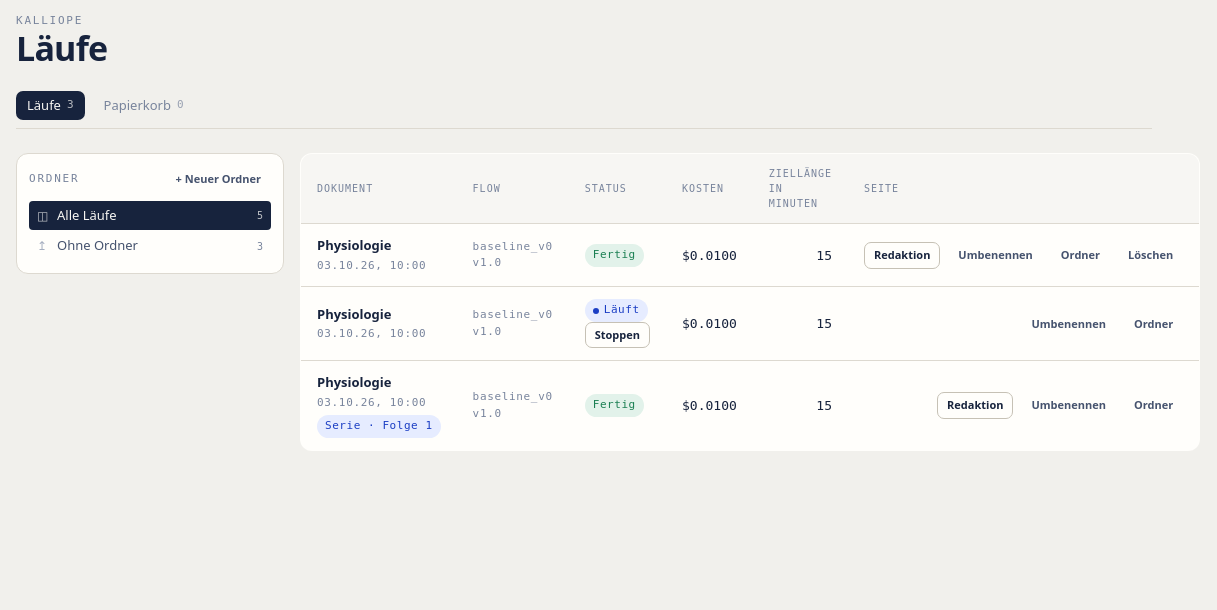
Test: runs trash › keeps a loaded runs list when a later load fails
The width and height of the screenshot is (1217, 610).
Step 1. Click the button "Löschen" → (1151, 255), box [1118,242,1183,269]
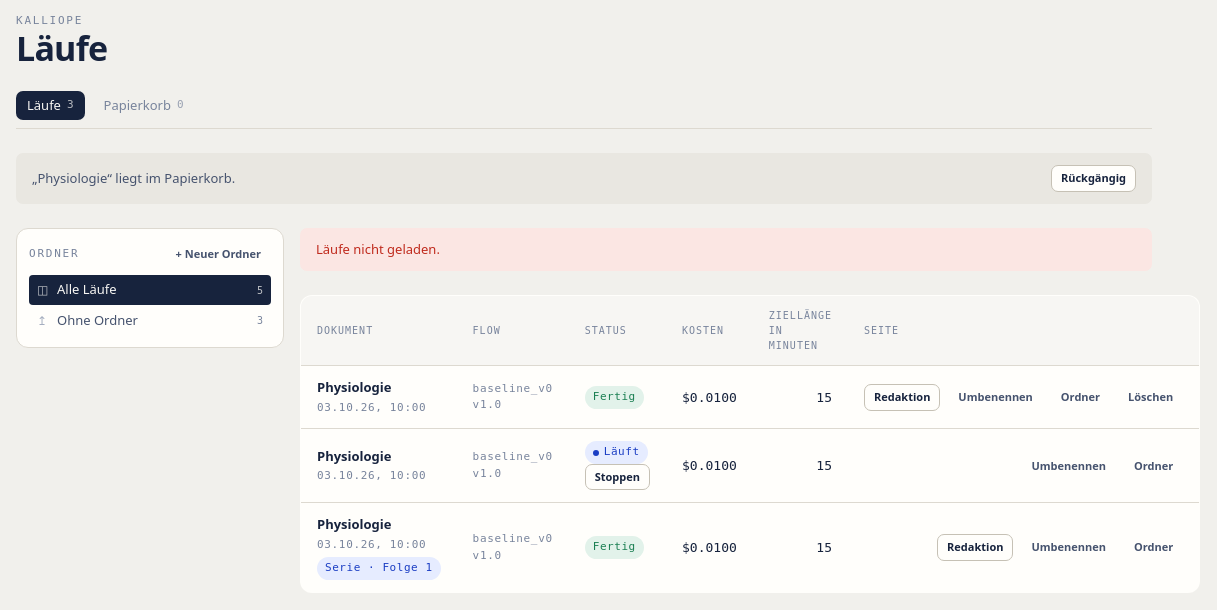
Expected: the message "Läufe nicht geladen." is shown, [300,228,1152,271]
